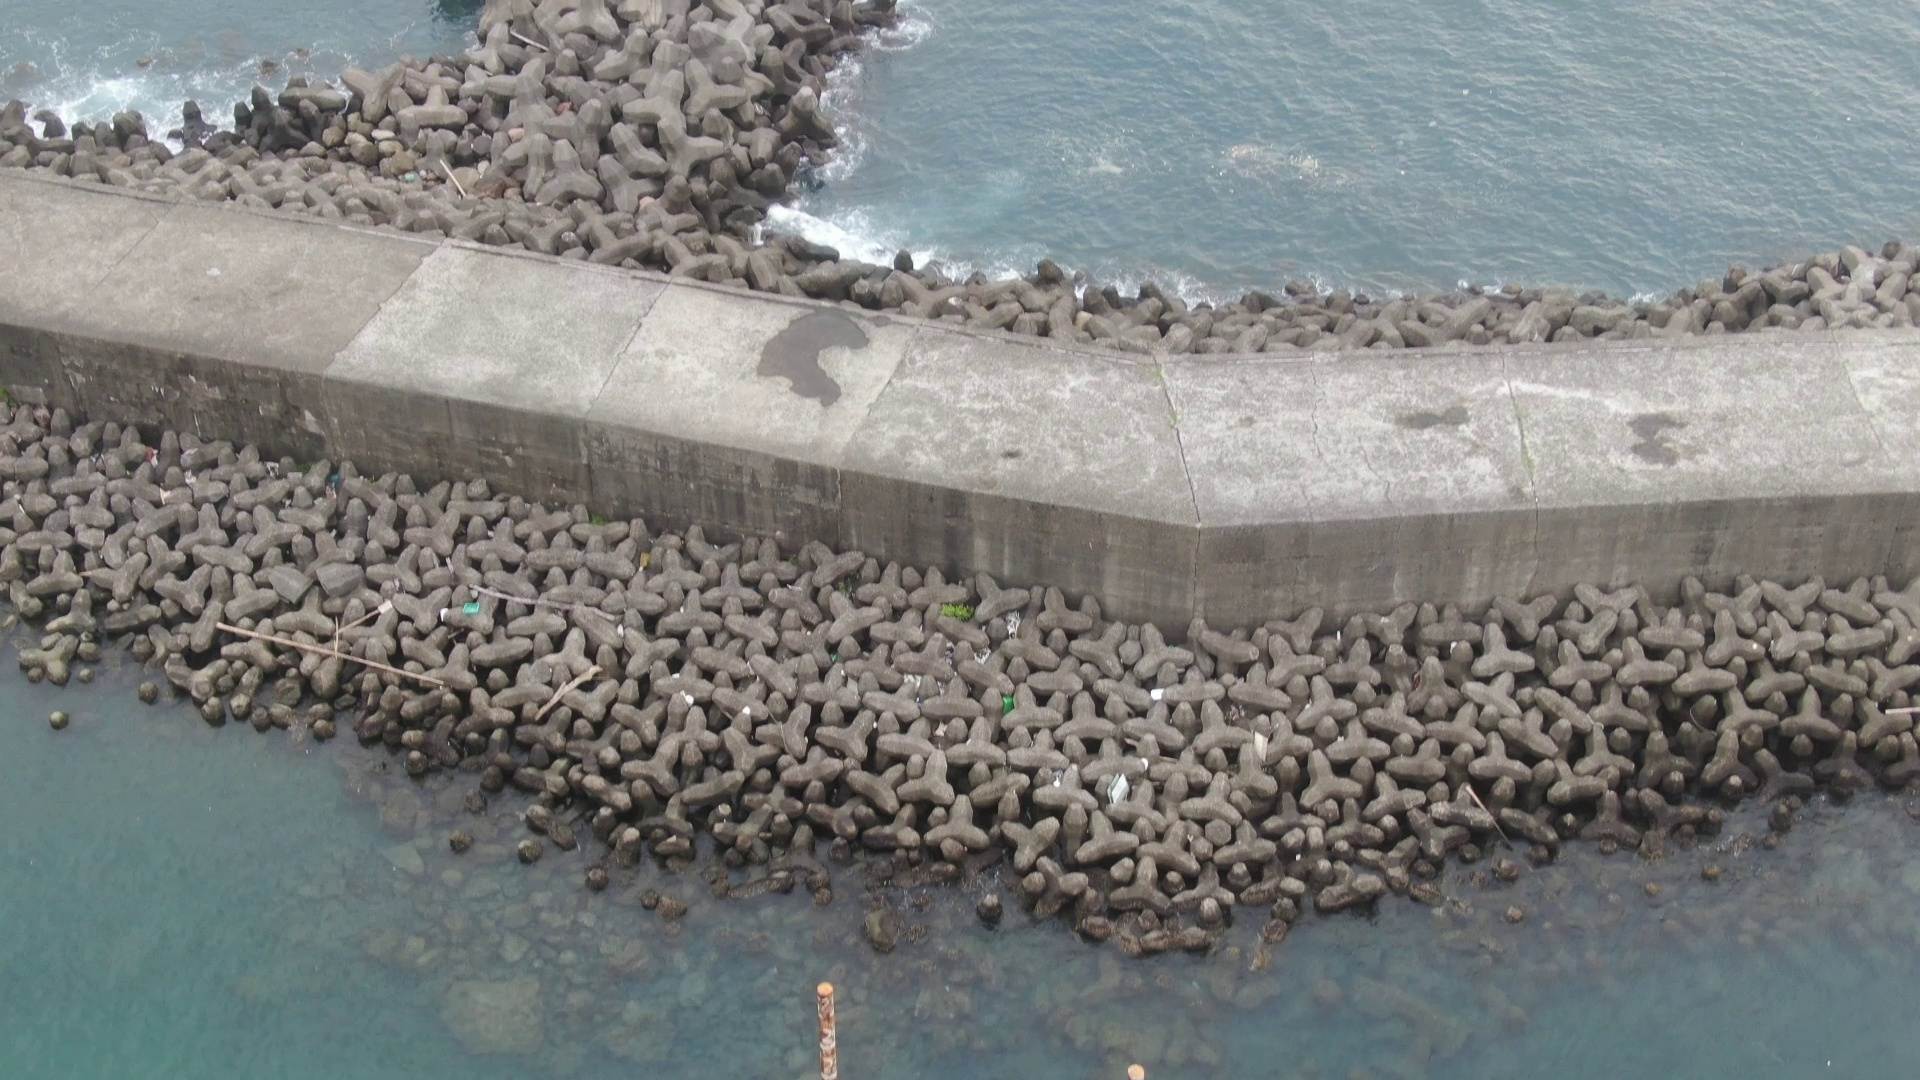garbage: (1105, 758, 1131, 810), (996, 684, 1019, 715), (455, 593, 483, 617)
